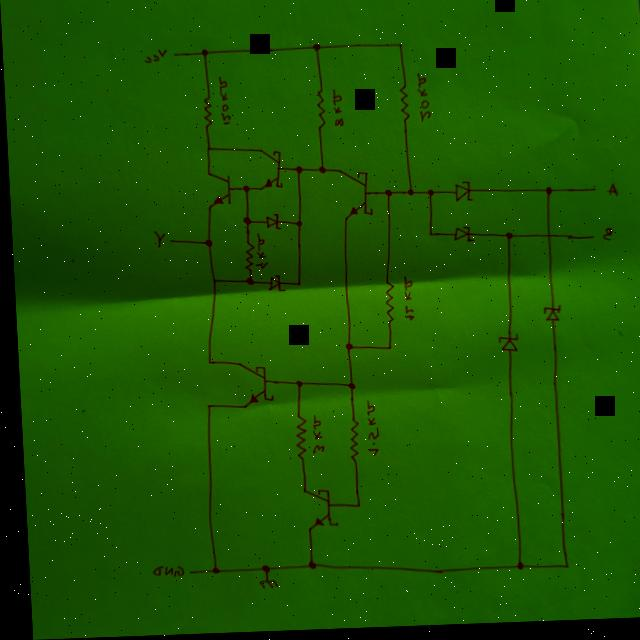crossover: (542, 235, 551, 244)
diode: (451, 183, 474, 210), (493, 337, 518, 358), (449, 228, 474, 247), (538, 308, 560, 327), (263, 214, 279, 233), (266, 275, 280, 294)
ground: (253, 579, 273, 592)
junction: (311, 44, 322, 55), (199, 48, 210, 59), (382, 190, 393, 201), (240, 217, 251, 228), (301, 562, 312, 572), (254, 565, 265, 575), (542, 190, 552, 200), (343, 383, 353, 393), (341, 344, 351, 354), (293, 167, 303, 177), (201, 239, 211, 249), (205, 566, 215, 576), (509, 564, 519, 574), (242, 278, 252, 288), (316, 167, 326, 177), (502, 235, 512, 244), (424, 191, 433, 200), (291, 381, 300, 390), (404, 190, 413, 199), (240, 186, 249, 195), (293, 221, 302, 229), (396, 44, 405, 52), (556, 566, 565, 574), (203, 359, 211, 368), (425, 233, 433, 241), (208, 278, 216, 286), (383, 347, 391, 354), (349, 504, 357, 511), (204, 146, 211, 154), (202, 403, 209, 411), (293, 283, 299, 289)
resistor: (289, 415, 306, 463), (342, 419, 358, 464), (379, 283, 395, 327), (396, 85, 412, 126), (313, 91, 329, 131), (200, 94, 215, 131), (241, 239, 254, 274)
terminal: (170, 51, 180, 60), (586, 237, 596, 245), (589, 189, 597, 197), (167, 238, 175, 246), (182, 569, 190, 577)
text: (360, 402, 378, 460), (416, 75, 432, 126), (398, 277, 414, 325), (216, 76, 230, 128), (306, 416, 321, 457), (330, 90, 345, 130), (252, 235, 266, 272), (145, 565, 178, 579), (143, 49, 167, 64), (152, 229, 165, 250), (598, 230, 612, 247), (604, 188, 617, 201)
transistor: (233, 362, 274, 414), (335, 170, 375, 223), (296, 487, 337, 536), (254, 149, 287, 193), (203, 172, 233, 211)
